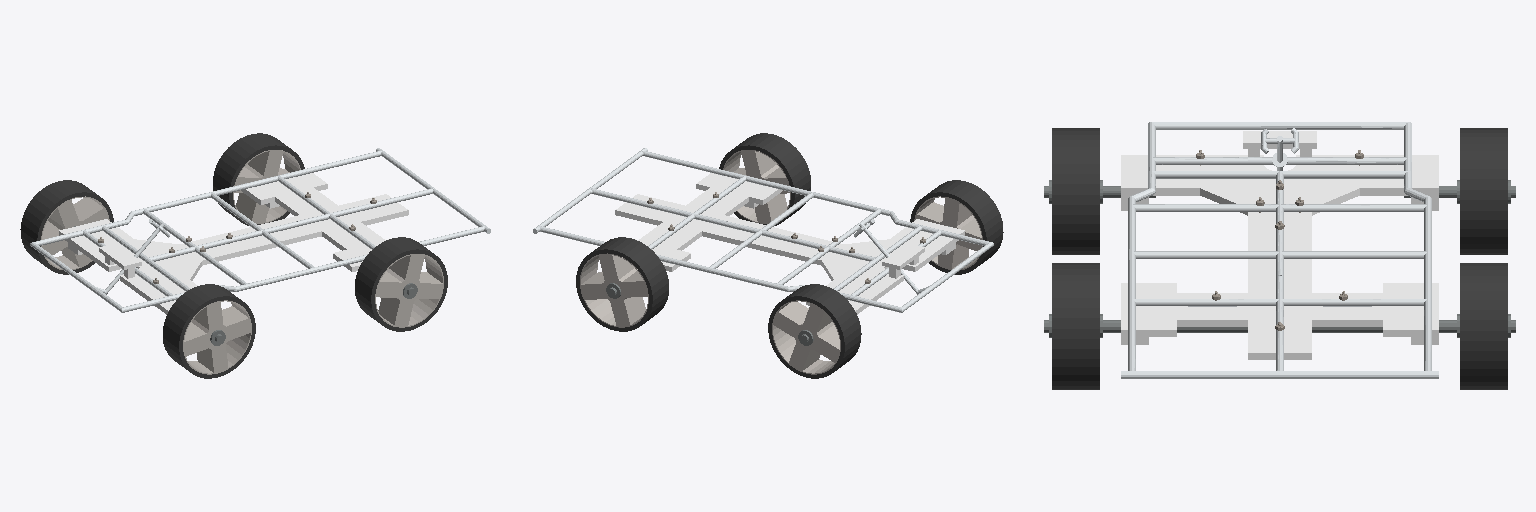
--- Facts derived from the render (not from the file) ---
Views: 3 orthographic renders of the robot side by side, from view 1: azimuth 30°, elevation 25°; view 2: azimuth 150°, elevation 25°; view 3: azimuth 270°, elevation 25°.
Robot: toycar3 — 47 links, 46 joints (4 revolute, 2 continuous, 40 fixed); root link dummy_link; default pose: all joints at 0.
Visible links, largest first — view 1: base_link, link_frame, link_r_l_rim, link_f_l_rim, link_r_l_tyre, link_f_l_tyre, link_f_r_tyre, link_f_r_rim, link_r_r_rim, link_r_r_tyre; view 2: base_link, link_frame, link_r_r_rim, link_f_r_rim, link_f_r_tyre, link_r_r_tyre, link_f_l_tyre, link_f_l_rim, link_r_l_rim, link_r_l_tyre; view 3: base_link, link_frame, link_r_l_tyre, link_r_r_tyre, link_f_l_tyre, link_f_r_tyre, link_rear_axle, link_steering.
Boxes of the visible links, box(x1,y1,x2,y2) form: base_link: box(59, 173, 408, 314); link_frame: box(30, 148, 490, 312); link_r_l_rim: box(375, 254, 443, 327); link_f_l_rim: box(183, 300, 251, 374); link_r_l_tyre: box(355, 237, 447, 331); link_f_l_tyre: box(163, 284, 255, 378); link_f_r_tyre: box(20, 180, 113, 274); link_f_r_rim: box(41, 196, 109, 269); link_r_r_rim: box(233, 150, 300, 223); link_r_r_tyre: box(213, 133, 304, 225); base_link: box(615, 173, 964, 314); link_frame: box(533, 148, 993, 312); link_r_r_rim: box(580, 253, 648, 327); link_f_r_rim: box(772, 300, 840, 374); link_f_r_tyre: box(768, 284, 861, 378); link_r_r_tyre: box(576, 237, 668, 331); link_f_l_tyre: box(910, 180, 1003, 274); link_f_l_rim: box(914, 196, 982, 269); link_r_l_rim: box(723, 150, 790, 223); link_r_l_tyre: box(719, 133, 810, 225); base_link: box(1121, 131, 1438, 359); link_frame: box(1121, 122, 1438, 378); link_r_l_tyre: box(1052, 263, 1099, 389); link_r_r_tyre: box(1460, 263, 1507, 389); link_f_l_tyre: box(1052, 128, 1099, 254); link_f_r_tyre: box(1460, 128, 1507, 254); link_rear_axle: box(1044, 314, 1515, 337); link_steering: box(1261, 128, 1298, 170).
Bounding box of the posed robot: 0.9527 × 0.7518 × 0.2349 m (x, y, z).
Meshes: 46 distinct files referenced, 44 mesh visuals loaded (44 binary STL); not drawn: 2 (reference not matched to a file when rendering).

URDF robot description (toycar3):
<?xml version="1.0" encoding="utf-8"?>
<!-- This URDF was automatically created by SolidWorks to URDF Exporter! Originally created by Stephen Brawner ([email redacted]) 
     Commit Version: 1.5.1-0-g916b5db  Build Version: 1.5.7152.31018
     For more information, please see http://wiki.ros.org/sw_urdf_exporter -->
<robot
  name="toycar3">
  <link
  	name="dummy_link">
  </link>
  <joint
  	name="dummy_joint"
  	type="fixed">
  	<parent
  		link="dummy_link"/>
  	<child
  		link="base_link"/>
  </joint>
  <link
    name="base_link">
    <inertial>
      <origin
        xyz="-0.0194866230589182 -4.52821466575289E-08 -0.0138913433602023"
        rpy="0 0 0" />
      <mass
        value="0.903090596787696" />
      <inertia
        ixx="0.0180645207120678"
        ixy="-9.36645843785957E-09"
        ixz="0.000714315186526493"
        iyy="0.0526376386693268"
        iyz="-3.23548170887733E-12"
        izz="0.070501882923323" />
    </inertial>
    <visual>
      <origin
        xyz="0 0 0"
        rpy="0 0 0" />
      <geometry>
        <mesh
          filename="package://toycar3/meshes/base_link.STL" />
      </geometry>
      <material
        name="">
        <color
          rgba="1 1 1 1" />
      </material>
    </visual>
    <collision>
      <origin
        xyz="0 0 0"
        rpy="0 0 0" />
      <geometry>
        <mesh
          filename="package://toycar3/meshes/base_link.STL" />
      </geometry>
    </collision>
  </link>

  <link
    name="link_rear_axle">
    <inertial>
      <origin
        xyz="2.64544163842131E-16 -5.55111512312578E-17 2.77555756156289E-17"
        rpy="0 0 0" />
      <mass
        value="2.03106793667197" />
      <inertia
        ixx="0.000128290910385331"
        ixy="1.70327418145342E-17"
        ixz="9.34665928195229E-18"
        iyy="0.103528744925387"
        iyz="-2.24666018215923E-34"
        izz="0.103528744925387" />
    </inertial>
    <visual>
      <origin
        xyz="0 0 0"
        rpy="0 0 0" />
      <geometry>
        <mesh
          filename="package://toycar3/meshes/link_rear_axle.STL" />
      </geometry>
      <material
        name="">
        <color
          rgba="0.529411764705882 0.549019607843137 0.549019607843137 1" />
      </material>
    </visual>
    <collision>
      <origin
        xyz="0 0 0"
        rpy="0 0 0" />
      <geometry>
        <mesh
          filename="package://toycar3/meshes/link_rear_axle.STL" />
      </geometry>
    </collision>
  </link>
  <joint
    name="joint_rear_axle"
    type="revolute">
    <origin
      xyz="0.19685 0 -0.04191"
      rpy="-0.667881894752791 0 1.5707963267949" />
    <parent
      link="base_link" />
    <child
      link="link_rear_axle" />
    <axis
      xyz="1 0 0" />
    <limit
      lower="-1000000"
      upper="20"
      effort="10"
      velocity="100" />
  </joint>
  <link
    name="link_r_l_rim">
    <inertial>
      <origin
        xyz="0.0381 0 0"
        rpy="0 0 0" />
      <mass
        value="7.74226211748073" />
      <inertia
        ixx="0.0281102715780439"
        ixy="-1.4269500038313E-19"
        ixz="-3.61755094790608E-18"
        iyy="0.0178013841598073"
        iyz="4.33680868994202E-18"
        izz="0.0178013841598073" />
    </inertial>
    <visual>
      <origin
        xyz="0 0 0"
        rpy="0 0 0" />
      <geometry>
        <mesh
          filename="package://toycar3/meshes/link_r_l_rim.STL" />
      </geometry>
      <material
        name="">
        <color
          rgba="0.776470588235294 0.756862745098039 0.737254901960784 1" />
      </material>
    </visual>
    <collision>
      <origin
        xyz="0 0 0"
        rpy="0 0 0" />
      <geometry>
        <mesh
          filename="package://toycar3/meshes/link_r_l_rim.STL" />
      </geometry>
    </collision>
  </link>
  <joint
    name="joint_r_l_rim"
    type="fixed">
    <origin
      xyz="-0.36322 0 0"
      rpy="-0.645429670899287 0 0" />
    <parent
      link="link_rear_axle" />
    <child
      link="link_r_l_rim" />
    <axis
      xyz="0 0 0" />
  </joint>
  <link
    name="link_r_l_tyre">
    <inertial>
      <origin
        xyz="0.0381 0 -2.77555756156289E-17"
        rpy="0 0 0" />
      <mass
        value="0.544257263030236" />
      <inertia
        ixx="0.00508440606902419"
        ixy="-1.23815831046327E-19"
        ixz="4.02909765679665E-19"
        iyy="0.00280555279637453"
        iyz="-1.24683249835833E-18"
        izz="0.00280555279637453" />
    </inertial>
    <visual>
      <origin
        xyz="0 0 0"
        rpy="0 0 0" />
      <geometry>
        <mesh
          filename="package://toycar3/meshes/link_r_l_tyre.STL" />
      </geometry>
      <material
        name="">
        <color
          rgba="0.298039215686275 0.298039215686275 0.298039215686275 1" />
      </material>
    </visual>
    <collision>
      <origin
        xyz="0 0 0"
        rpy="0 0 0" />
      <geometry>
        <mesh
          filename="package://toycar3/meshes/link_r_l_tyre.STL" />
      </geometry>
    </collision>
  </link>
  <joint
    name="joint_r_l_tyre"
    type="fixed">
    <origin
      xyz="0 0 0"
      rpy="0.00846878916446956 0 0" />
    <parent
      link="link_r_l_rim" />
    <child
      link="link_r_l_tyre" />
    <axis
      xyz="0 0 0" />
  </joint>
  <link
    name="link_r_r_rim">
    <inertial>
      <origin
        xyz="0.0381 -6.93889390390723E-18 0"
        rpy="0 0 0" />
      <mass
        value="7.74226211748073" />
      <inertia
        ixx="0.0281102715780439"
        ixy="-2.77957676458445E-18"
        ixz="-9.23432583231778E-20"
        iyy="0.0178013841598073"
        iyz="8.67361737988404E-19"
        izz="0.0178013841598073" />
    </inertial>
    <visual>
      <origin
        xyz="0 0 0"
        rpy="0 0 0" />
      <geometry>
        <mesh
          filename="package://toycar3/meshes/link_r_r_rim.STL" />
      </geometry>
      <material
        name="">
        <color
          rgba="0.776470588235294 0.756862745098039 0.737254901960784 1" />
      </material>
    </visual>
    <collision>
      <origin
        xyz="0 0 0"
        rpy="0 0 0" />
      <geometry>
        <mesh
          filename="package://toycar3/meshes/link_r_r_rim.STL" />
      </geometry>
    </collision>
  </link>
  <joint
    name="joint_r_r_rim"
    type="fixed">
    <origin
      xyz="0.28702 0 0"
      rpy="-0.621491575350701 0 0" />
    <parent
      link="link_rear_axle" />
    <child
      link="link_r_r_rim" />
    <axis
      xyz="0 0 0" />
  </joint>
  <link
    name="link_r_r_tyre">
    <inertial>
      <origin
        xyz="0.0381 0 -2.77555756156289E-17"
        rpy="0 0 0" />
      <mass
        value="0.544257263030236" />
      <inertia
        ixx="0.00508440606902418"
        ixy="-4.437551776778E-19"
        ixz="1.70523028282642E-19"
        iyy="0.00280555279637453"
        iyz="5.42101086242752E-19"
        izz="0.00280555279637453" />
    </inertial>
    <visual>
      <origin
        xyz="0 0 0"
        rpy="0 0 0" />
      <geometry>
        <mesh
          filename="package://toycar3/meshes/link_r_r_tyre.STL" />
      </geometry>
      <material
        name="">
        <color
          rgba="0.298039215686275 0.298039215686275 0.298039215686275 1" />
      </material>
    </visual>
    <collision>
      <origin
        xyz="0 0 0"
        rpy="0 0 0" />
      <geometry>
        <mesh
          filename="package://toycar3/meshes/link_r_r_tyre.STL" />
      </geometry>
    </collision>
  </link>
  <joint
    name="joint_r_r_tyre"
    type="fixed">
    <origin
      xyz="0 0 0"
      rpy="0.347274971296084 0 0" />
    <parent
      link="link_r_r_rim" />
    <child
      link="link_r_r_tyre" />
    <axis
      xyz="0 0 0" />
  </joint>
  <link
    name="link_f_l_male">
    <inertial>
      <origin
        xyz="0 0.00139495758888553 -2.77555756156289E-17"
        rpy="0 0 0" />
      <mass
        value="0.0198736914795158" />
      <inertia
        ixx="1.38179284185265E-06"
        ixy="-2.59401671132815E-22"
        ixz="3.63870617807167E-22"
        iyy="4.6384541819013E-06"
        iyz="-3.41550258992647E-23"
        izz="3.37441763239287E-06" />
    </inertial>
    <visual>
      <origin
        xyz="0 0 0"
        rpy="0 0 0" />
      <geometry>
        <mesh
          filename="package://toycar3/meshes/link_f_l_male.STL" />
      </geometry>
      <material
        name="">
        <color
          rgba="0.650980392156863 0.619607843137255 0.588235294117647 1" />
      </material>
    </visual>
    <collision>
      <origin
        xyz="0 0 0"
        rpy="0 0 0" />
      <geometry>
        <mesh
          filename="package://toycar3/meshes/link_f_l_male.STL" />
      </geometry>
    </collision>
  </link>
  <joint
    name="joint_f_l_male"
    type="fixed">
    <origin
      xyz="-0.31115 -0.231775 -0.01905"
      rpy="-1.5707963267949 0 0" />
    <parent
      link="base_link" />
    <child
      link="link_f_l_male" />
    <axis
      xyz="0 0 0" />
    <limit
      lower="0"
      upper="0.69"
      effort="0"
      velocity="0" />
  </joint>
  <link
    name="link_f_l_screw1">
    <inertial>
      <origin
        xyz="8.05871137210534E-07 -0.00131420373114879 4.74413567264076E-07"
        rpy="0 0 0" />
      <mass
        value="0.000125943991766216" />
      <inertia
        ixx="7.65573322438364E-10"
        ixy="6.41796368786257E-14"
        ixz="1.01152736126987E-14"
        iyy="8.25148970327899E-11"
        iyz="-3.68494679781155E-13"
        izz="7.65536297004475E-10" />
    </inertial>
    <visual>
      <origin
        xyz="0 0 0"
        rpy="0 0 0" />
      <geometry>
        <mesh
          filename="package://toycar3/meshes/link_f_l_screw1.STL" />
      </geometry>
      <material
        name="">
        <color
          rgba="0.650980392156863 0.619607843137255 0.588235294117647 1" />
      </material>
    </visual>
    <collision>
      <origin
        xyz="0 0 0"
        rpy="0 0 0" />
      <geometry>
        <mesh
          filename="package://toycar3/meshes/link_f_l_screw1.STL" />
      </geometry>
    </collision>
  </link>
  <joint
    name="joint_f_l_screw1"
    type="fixed">
    <origin
      xyz="-0.02159 0 -0.012065"
      rpy="3.14159265358979 0 3.14159265358979" />
    <parent
      link="link_f_l_male" />
    <child
      link="link_f_l_screw1" />
    <axis
      xyz="0 0 0" />
    <limit
      lower="0"
      upper="0"
      effort="0"
      velocity="0" />
  </joint>
  <link
    name="link_f_l_screw2">
    <inertial>
      <origin
        xyz="8.05871138653824E-07 -0.00131420373115186 4.74413572287835E-07"
        rpy="0 0 0" />
      <mass
        value="0.000125943991766291" />
      <inertia
        ixx="7.6557332244084E-10"
        ixy="6.41796377172423E-14"
        ixz="1.01152735806357E-14"
        iyy="8.25148970328198E-11"
        iyz="-3.68494677909906E-13"
        izz="7.65536297005135E-10" />
    </inertial>
    <visual>
      <origin
        xyz="0 0 0"
        rpy="0 0 0" />
      <geometry>
        <mesh
          filename="package://toycar3/meshes/link_f_l_screw2.STL" />
      </geometry>
      <material
        name="">
        <color
          rgba="0.650980392156863 0.619607843137255 0.588235294117647 1" />
      </material>
    </visual>
    <collision>
      <origin
        xyz="0 0 0"
        rpy="0 0 0" />
      <geometry>
        <mesh
          filename="package://toycar3/meshes/link_f_l_screw2.STL" />
      </geometry>
    </collision>
  </link>
  <joint
    name="joint_f_l_screw2"
    type="fixed">
    <origin
      xyz="-0.02159 0 0.012065"
      rpy="3.14159265358979 0 3.14159265358979" />
    <parent
      link="link_f_l_male" />
    <child
      link="link_f_l_screw2" />
    <axis
      xyz="0 0 0" />
    <limit
      lower="0"
      upper="0"
      effort="0"
      velocity="0" />
  </joint>
  <link
    name="link_f_l_screw3">
    <inertial>
      <origin
        xyz="0.0246210994003396 -0.0217182225147169 0.0108711258438841"
        rpy="0 0 0" />
      <mass
        value="0.000125943991766536" />
      <inertia
        ixx="8.28009787691083E-11"
        ixy="-1.3976245373486E-11"
        ixz="3.64129010863095E-13"
        iyy="7.65286030019214E-10"
        iyz="1.94810591345519E-14"
        izz="7.655375076955E-10" />
    </inertial>
    <visual>
      <origin
        xyz="0 0 0"
        rpy="0 0 0" />
      <geometry>
        <mesh
          filename="package://toycar3/meshes/link_f_l_screw3.STL" />
      </geometry>
      <material
        name="">
        <color
          rgba="0.650980392156863 0.619607843137255 0.588235294117647 1" />
      </material>
    </visual>
    <collision>
      <origin
        xyz="0 0 0"
        rpy="0 0 0" />
      <geometry>
        <mesh
          filename="package://toycar3/meshes/link_f_l_screw3.STL" />
      </geometry>
    </collision>
  </link>
  <joint
    name="joint_f_l_screw3"
    type="fixed">
    <origin
      xyz="0 0.02286 0"
      rpy="3.08708565552536 0.00110848337156834 -1.55048273639759" />
    <parent
      link="link_f_l_male" />
    <child
      link="link_f_l_screw3" />
    <axis
      xyz="0 0 0" />
    <limit
      lower="0"
      upper="0"
      effort="0"
      velocity="13.58" />
  </joint>
  <link
    name="link_f_l_screw4">
    <inertial>
      <origin
        xyz="8.05871144482495E-07 -0.00131420373115914 4.74413583168021E-07"
        rpy="0 0 0" />
      <mass
        value="0.000125943991766587" />
      <inertia
        ixx="7.65573322446374E-10"
        ixy="6.41796399667039E-14"
        ixz="1.0115273846494E-14"
        iyy="8.25148970329176E-11"
        iyz="-3.68494673538106E-13"
        izz="7.65536297005775E-10" />
    </inertial>
    <visual>
      <origin
        xyz="0 0 0"
        rpy="0 0 0" />
      <geometry>
        <mesh
          filename="package://toycar3/meshes/link_f_l_screw4.STL" />
      </geometry>
      <material
        name="">
        <color
          rgba="0.650980392156863 0.619607843137255 0.588235294117647 1" />
      </material>
    </visual>
    <collision>
      <origin
        xyz="0 0 0"
        rpy="0 0 0" />
      <geometry>
        <mesh
          filename="package://toycar3/meshes/link_f_l_screw4.STL" />
      </geometry>
    </collision>
  </link>
  <joint
    name="joint_f_l_screw4"
    type="fixed">
    <origin
      xyz="0.02159 0 0.012065"
      rpy="3.14159265358979 0 3.14159265358979" />
    <parent
      link="link_f_l_male" />
    <child
      link="link_f_l_screw4" />
    <axis
      xyz="0 0 0" />
  </joint>
  <link
    name="link_f_l_female">
    <inertial>
      <origin
        xyz="-5.55111512312578E-17 0.00256379553417314 -2.77555756156289E-17"
        rpy="0 0 0" />
      <mass
        value="0.0608610664145253" />
      <inertia
        ixx="5.44262463107105E-06"
        ixy="-1.07231695663154E-21"
        ixz="-4.49856259556589E-07"
        iyy="1.88403983131329E-05"
        iyz="-1.64324963805775E-22"
        izz="1.36613772887221E-05" />
    </inertial>
    <visual>
      <origin
        xyz="0 0 0"
        rpy="0 0 0" />
      <geometry>
        <mesh
          filename="package://toycar3/meshes/link_f_l_female.STL" />
      </geometry>
      <material
        name="">
        <color
          rgba="0.650980392156863 0.619607843137255 0.588235294117647 1" />
      </material>
    </visual>
    <collision>
      <origin
        xyz="0 0 0"
        rpy="0 0 0" />
      <geometry>
        <mesh
          filename="package://toycar3/meshes/link_f_l_female.STL" />
      </geometry>
    </collision>
  </link>
  <joint
    name="joint_f_l_female"
    type="revolute">
    <origin
      xyz="0 0.00381 0"
      rpy="0 0.054518 0" />
    <parent
      link="link_f_l_male" />
    <child
      link="link_f_l_female" />
    <axis
      xyz="0 1 0" />
    <limit
      lower="-0.35"
      upper="0.35"
      effort="10"
      velocity="0" />
  </joint>
  <link
    name="link_f_l_box">
    <inertial>
      <origin
        xyz="-0.000118058799892407 0.0218954046217484 -6.36415414712044E-06"
        rpy="0 0 0" />
      <mass
        value="0.0316542736439618" />
      <inertia
        ixx="8.5762956705751E-06"
        ixy="3.66029913286007E-08"
        ixz="-6.97896757539453E-07"
        iyy="2.37464901569807E-05"
        iyz="1.99393426415151E-09"
        izz="2.13257150133968E-05" />
    </inertial>
    <visual>
      <origin
        xyz="0 0 0"
        rpy="0 0 0" />
      <geometry>
        <mesh
          filename="package://toycar3/meshes/link_f_l_box.STL" />
      </geometry>
      <material
        name="">
        <color
          rgba="1 1 1 1" />
      </material>
    </visual>
    <collision>
      <origin
        xyz="0 0 0"
        rpy="0 0 0" />
      <geometry>
        <mesh
          filename="package://toycar3/meshes/link_f_l_box.STL" />
      </geometry>
    </collision>
  </link>
  <joint
    name="joint_f_l_box"
    type="fixed">
    <origin
      xyz="0 -0.00380999999999999 0"
      rpy="0 0 0" />
    <parent
      link="link_f_l_female" />
    <child
      link="link_f_l_box" />
    <axis
      xyz="0 0 0" />
  </joint>
  <link
    name="link_f_l_axle">
    <inertial>
      <origin
        xyz="2.08166817117217E-17 -2.22044604925031E-16 0.0600335245901639"
        rpy="0 0 0" />
      <mass
        value="0.514392650628072" />
      <inertia
        ixx="0.00139291099285096"
        ixy="0"
        ixz="-1.39332476484977E-20"
        iyy="0.00139291099285096"
        iyz="8.02405594864398E-20"
        izz="3.82801485900708E-05" />
    </inertial>
    <visual>
      <origin
        xyz="0 0 0"
        rpy="0 0 0" />
      <geometry>
        <mesh
          filename="package://toycar3/meshes/link_f_l_axle.STL" />
      </geometry>
      <material
        name="">
        <color
          rgba="0.529411764705882 0.549019607843137 0.549019607843137 1" />
      </material>
    </visual>
    <collision>
      <origin
        xyz="0 0 0"
        rpy="0 0 0" />
      <geometry>
        <mesh
          filename="package://toycar3/meshes/link_f_l_axle.STL" />
      </geometry>
    </collision>
  </link>
  <joint
    name="joint_f_l_axle"
    type="continuous">
    <origin
      xyz="0 0.02286 0"
      rpy="-3.08708565552535 -0.00110848337156762 -1.55048273639759" />
    <parent
      link="link_f_l_box" />
    <child
      link="link_f_l_axle" />
    <axis
      xyz="0 0 1" />
  </joint>
  <link
    name="link_f_l_rim">
    <inertial>
      <origin
        xyz="0.0379613124681336 0.0013164431408594 0.00491317804984565"
        rpy="0 0 0" />
      <mass
        value="7.74226211748073" />
      <inertia
        ixx="0.0280796614317714"
        ixy="0.000145170077607715"
        ixz="0.000541798135186436"
        iyy="0.0178034345375968"
        iyz="7.65234048971249E-06"
        izz="0.0178299439282903" />
    </inertial>
    <visual>
      <origin
        xyz="0 0 0"
        rpy="0 0 0" />
      <geometry>
        <mesh
          filename="package://toycar3/meshes/link_f_l_rim.STL" />
      </geometry>
      <material
        name="">
        <color
          rgba="0.776470588235294 0.756862745098039 0.737254901960784 1" />
      </material>
    </visual>
    <collision>
      <origin
        xyz="0 0 0"
        rpy="0 0 0" />
      <geometry>
        <mesh
          filename="package://toycar3/meshes/link_f_l_rim.STL" />
      </geometry>
    </collision>
  </link>
  <joint
    name="joint_f_l_rim"
    type="fixed">
    <origin
      xyz="-6.12381513213217E-05 0.0030097464087871 0.0551629196239977"
      rpy="0.261791991203231 -1.51627806970356 1.59114013472754" />
    <parent
      link="link_f_l_axle" />
    <child
      link="link_f_l_rim" />
    <axis
      xyz="0 0 0" />
  </joint>
  <link
    name="link_f_l_tyre">
    <inertial>
      <origin
        xyz="0.0379613124681336 0.000204962217721424 0.00508235492482662"
        rpy="0 0 0" />
      <mass
        value="0.544257263030237" />
      <inertia
        ixx="0.00507763947732721"
        ixy="4.9963560691611E-06"
        ixz="0.000123892369806174"
        iyy="0.0028055637834439"
        iyz="2.72441363700639E-07"
        izz="0.00281230840100216" />
    </inertial>
    <visual>
      <origin
        xyz="0 0 0"
        rpy="0 0 0" />
      <geometry>
        <mesh
          filename="package://toycar3/meshes/link_f_l_tyre.STL" />
      </geometry>
      <material
        name="">
        <color
          rgba="0.298039215686275 0.298039215686275 0.298039215686275 1" />
      </material>
    </visual>
    <collision>
      <origin
        xyz="0 0 0"
        rpy="0 0 0" />
      <geometry>
        <mesh
          filename="package://toycar3/meshes/link_f_l_tyre.STL" />
      </geometry>
    </collision>
  </link>
  <joint
    name="joint_f_l_tyre"
    type="fixed">
    <origin
      xyz="0 0 0"
      rpy="-0.221485634270223 0 0" />
    <parent
      link="link_f_l_rim" />
    <child
      link="link_f_l_tyre" />
    <axis
      xyz="0 0 0" />
  </joint>
  <link
    name="link_f_r_male">
    <inertial>
      <origin
        xyz="5.55111512312578E-17 0.00139495758888553 0"
        rpy="0 0 0" />
      <mass
        value="0.0198736914795158" />
      <inertia
        ixx="1.38179284185265E-06"
        ixy="2.45844317793415E-24"
        ixz="3.26550554442329E-22"
        iyy="4.6384541819013E-06"
        iyz="-5.41831797819583E-23"
        izz="3.37441763239287E-06" />
    </inertial>
    <visual>
      <origin
        xyz="0 0 0"
        rpy="0 0 0" />
      <geometry>
        <mesh
          filename="package://toycar3/meshes/link_f_r_male.STL" />
      </geometry>
      <material
        name="">
        <color
          rgba="0.650980392156863 0.619607843137255 0.588235294117647 1" />
      </material>
    </visual>
    <collision>
      <origin
        xyz="0 0 0"
        rpy="0 0 0" />
      <geometry>
        <mesh
          filename="package://toycar3/meshes/link_f_r_male.STL" />
      </geometry>
    </collision>
  </link>
  <joint
    name="joint_f_r_male"
    type="fixed">
    <origin
      xyz="-0.31115 0.231775 -0.01905"
      rpy="-1.5707963267949 0 3.14159265358979" />
    <parent
      link="base_link" />
    <child
      link="link_f_r_male" />
    <axis
      xyz="0 0 0" />
    <limit
      lower="0"
      upper="0.69"
      effort="0"
      velocity="0" />
  </joint>
  <link
    name="link_f_r_female">
    <inertial>
      <origin
        xyz="-5.55111512312578E-17 0.00637379553417314 5.55111512312578E-17"
        rpy="0 0 0" />
      <mass
        value="0.0608610664145253" />
      <inertia
        ixx="5.41807492449466E-06"
        ixy="-7.57375835622894E-21"
        ixz="-1.07746278902046E-18"
        iyy="1.88403983131329E-05"
        iyz="6.60324189025663E-22"
        izz="1.36859269952985E-05" />
    </inertial>
    <visual>
      <origin
        xyz="0 0 0"
        rpy="0 0 0" />
      <geometry>
        <mesh
          filename="package://toycar3/meshes/link_f_r_female.STL" />
      </geometry>
      <material
        name="">
        <color
          rgba="0.650980392156863 0.619607843137255 0.588235294117647 1" />
      </material>
    </visual>
    <collision>
      <origin
        xyz="0 0 0"
        rpy="0 0 0" />
      <geometry>
        <mesh
          filename="package://toycar3/meshes/link_f_r_female.STL" />
      </geometry>
    </collision>
  </link>
  <joint
    name="joint_f_r_female"
    type="revolute">
    <origin
      xyz="0 0 0"
      rpy="3.1416 0 3.1416" />
    <parent
      link="link_f_r_male" />
    <child
      link="link_f_r_female" />
    <axis
      xyz="0 1 0" />
    <limit
      lower="-0.35"
      upper="0.35"
      effort="10"
      velocity="0" /> 
  </joint>
  <link
    name="link_f_r_box">
    <inertial>
      <origin
        xyz="-0.000118070441057605 0.0218954029057654 -6.42087200444785E-06"
        rpy="0 0 0" />
      <mass
        value="0.0316542496674256" />
      <inertia
        ixx="8.57697943582395E-06"
        ixy="3.66031693926522E-08"
        ixz="-7.04116692628444E-07"
        iyy="2.37464804014165E-05"
        iyz="2.01172517497529E-09"
        izz="2.13250212140382E-05" />
    </inertial>
    <visual>
      <origin
        xyz="0 0 0"
        rpy="0 0 0" />
      <geometry>
        <mesh
          filename="package://toycar3/meshes/link_f_r_box.STL" />
      </geometry>
      <material
        name="">
        <color
          rgba="1 1 1 1" />
      </material>
    </visual>
    <collision>
      <origin
        xyz="0 0 0"
        rpy="0 0 0" />
      <geometry>
        <mesh
          filename="package://toycar3/meshes/link_f_r_box.STL" />
      </geometry>
    </collision>
  </link>
  <joint
    name="joint_f_r_box"
    type="fixed">
    <origin
      xyz="0 0 0"
      rpy="0 0.0550060979108971 0" />
    <parent
      link="link_f_r_female" />
    <child
      link="link_f_r_box" />
    <axis
      xyz="0 0 0" />
  </joint>
  <link
    name="link_f_r_axle">
    <inertial>
      <origin
        xyz="9.43689570931383E-16 -4.44089209850063E-16 0.0600335245901641"
        rpy="0 0 0" />
      <mass
        value="0.514392650628071" />
      <inertia
        ixx="0.00139291099285096"
        ixy="3.28385662961874E-34"
        ixz="-3.68555797030506E-18"
        iyy="0.00139291099285096"
        iyz="-3.81002449938206E-18"
        izz="3.82801485900707E-05" />
    </inertial>
    <visual>
      <origin
        xyz="0 0 0"
        rpy="0 0 0" />
      <geometry>
        <mesh
          filename="package://toycar3/meshes/link_f_r_axle.STL" />
      </geometry>
      <material
        name="">
        <color
          rgba="0.529411764705882 0.549019607843137 0.549019607843137 1" />
      </material>
    </visual>
    <collision>
      <origin
        xyz="0 0 0"
        rpy="0 0 0" />
      <geometry>
        <mesh
          filename="package://toycar3/meshes/link_f_r_axle.STL" />
      </geometry>
    </collision>
  </link>
  <joint
    name="joint_f_r_axle"
    type="continuous">
    <origin
      xyz="0 0.0228600000000001 0"
      rpy="0.0385191950946923 0.0392772905880764 -2.36556290950817" />
    <parent
      link="link_f_r_box" />
    <child
      link="link_f_r_axle" />
    <axis
      xyz="0 0 1" />
  </joint>
  <link
    name="link_f_r_rim">
    <inertial>
      <origin
        xyz="0.0382411800183526 0.00463757820344296 -0.00219768838450926"
        rpy="0 0 0" />
      <mass
        value="7.74226211748073" />
      <inertia
        ixx="0.028079111723839"
        ixy="-0.000511392830693595"
        ixz="0.000242342454322855"
        iyy="0.0178268297289427"
        iyz="-1.2058326409341E-05"
        izz="0.0178070984448768" />
    </inertial>
    <visual>
      <origin
        xyz="0 0 0"
        rpy="0 0 0" />
      <geometry>
        <mesh
          filename="package://toycar3/meshes/link_f_r_rim.STL" />
      </geometry>
      <material
        name="">
        <color
          rgba="0.776470588235294 0.756862745098039 0.737254901960784 1" />
      </material>
    </visual>
    <collision>
      <origin
        xyz="0 0 0"
        rpy="0 0 0" />
      <geometry>
        <mesh
          filename="package://toycar3/meshes/link_f_r_rim.STL" />
      </geometry>
    </collision>
  </link>
  <joint
    name="joint_f_r_rim"
    type="fixed">
    <origin
      xyz="-0.00516147611615508 0.00505799962266965 0.131246195484364"
      rpy="2.01333622728987 1.51579022888373 -0.775273088484832" />
    <parent
      link="link_f_r_axle" />
    <child
      link="link_f_r_rim" />
    <axis
      xyz="0 0 0" />
  </joint>
  <link
    name="link_f_r_tyre">
    <inertial>
      <origin
        xyz="0.0382411800183527 0.00507031070036651 -0.000793041758173"
        rpy="0 0 0" />
      <mass
        value="0.544257263030237" />
      <inertia
        ixx="0.00507751796045834"
        ixy="-0.000123595462981878"
        ixz="1.93314313574997E-05"
        iyy="0.00281227641991912"
        iyz="-1.05163461416709E-06"
        izz="0.0028057172813958" />
    </inertial>
    <visual>
      <origin
        xyz="0 0 0"
        rpy="0 0 0" />
      <geometry>
        <mesh
          filename="package://toycar3/meshes/link_f_r_tyre.STL" />
      </geometry>
      <material
        name="">
        <color
          rgba="0.298039215686275 0.298039215686275 0.298039215686275 1" />
      </material>
    </visual>
    <collision>
      <origin
        xyz="0 0 0"
        rpy="0 0 0" />
      <geometry>
        <mesh
          filename="package://toycar3/meshes/link_f_r_tyre.STL" />
      </geometry>
    </collision>
  </link>
  <joint
    name="joint_f_r_tyre"
    type="fixed">
    <origin
      xyz="0 0 0"
      rpy="-0.287388041788395 0 0" />
    <parent
      link="link_f_r_rim" />
    <child
      link="link_f_r_tyre" />
    <axis
      xyz="0 0 0" />
  </joint>
  <link
    name="link_f_r_screw1">
    <inertial>
      <origin
        xyz="8.05871138098713E-07 -0.00131420373115022 4.74413568790633E-07"
        rpy="0 0 0" />
      <mass
        value="0.000125943991766257" />
      <inertia
        ixx="7.65573322439304E-10"
        ixy="6.41796372995749E-14"
        ixz="1.01152735852706E-14"
        iyy="8.25148970328047E-11"
        iyz="-3.68494679173842E-13"
        izz="7.65536297004969E-10" />
    </inertial>
    <visual>
      <origin
        xyz="0 0 0"
        rpy="0 0 0" />
      <geometry>
        <mesh
          filename="package://toycar3/meshes/link_f_r_screw1.STL" />
      </geometry>
      <material
        name="">
        <color
          rgba="0.650980392156863 0.619607843137255 0.588235294117647 1" />
      </material>
    </visual>
    <collision>
      <origin
        xyz="0 0 0"
        rpy="0 0 0" />
      <geometry>
        <mesh
          filename="package://toycar3/meshes/link_f_r_screw1.STL" />
      </geometry>
    </collision>
  </link>
  <joint
    name="joint_f_r_screw1"
    type="fixed">
    <origin
      xyz="-0.0215899999999999 0 -0.0120650000000001"
      rpy="0 0 0" />
    <parent
      link="link_f_r_male" />
    <child
      link="link_f_r_screw1" />
    <axis
      xyz="0 0 0" />
    <limit
      lower="0"
      upper="0"
      effort="0"
      velocity="0" />
  </joint>
  <link
    name="link_f_r_screw2">
    <inertial>
      <origin
        xyz="0.0010496904616594 0.032817882474934 -0.010860287371414"
        rpy="0 0 0" />
      <mass
        value="0.000125943991766377" />
      <inertia
        ixx="4.30874706675306E-10"
        ixy="-3.41460286606324E-10"
        ixz="-2.63686461607675E-13"
        iyy="4.17212290326871E-10"
        iyz="-2.51812130230202E-13"
        izz="7.65537519479196E-10" />
    </inertial>
    <visual>
      <origin
        xyz="0 0 0"
        rpy="0 0 0" />
      <geometry>
        <mesh
          filename="package://toycar3/meshes/link_f_r_screw2.STL" />
      </geometry>
      <material
        name="">
        <color
          rgba="0.650980392156863 0.619607843137255 0.588235294117647 1" />
      </material>
    </visual>
    <collision>
      <origin
        xyz="0 0 0"
        rpy="0 0 0" />
      <geometry>
        <mesh
          filename="package://toycar3/meshes/link_f_r_screw2.STL" />
      </geometry>
    </collision>
  </link>
  <joint
    name="joint_f_r_screw2"
    type="fixed">
    <origin
      xyz="0 0.0228600000000001 0"
      rpy="3.103073458495 0.0392772905881773 -0.776029744081692" />
    <parent
      link="link_f_r_male" />
    <child
      link="link_f_r_screw2" />
    <axis
      xyz="0 0 0" />
    <limit
      lower="0"
      upper="0"
      effort="0"
      velocity="13.58" />
  </joint>
  <link
    name="link_f_r_screw3">
    <inertial>
      <origin
        xyz="8.05871134823555E-07 -0.00131420373114686 4.7441356504363E-07"
        rpy="0 0 0" />
      <mass
        value="0.000125943991766105" />
      <inertia
        ixx="7.6557332243721E-10"
        ixy="6.4179636092503E-14"
        ixz="1.01152735324587E-14"
        iyy="8.25148970327546E-11"
        iyz="-3.6849468080585E-13"
        izz="7.65536297004279E-10" />
    </inertial>
    <visual>
      <origin
        xyz="0 0 0"
        rpy="0 0 0" />
      <geometry>
        <mesh
          filename="package://toycar3/meshes/link_f_r_screw3.STL" />
      </geometry>
      <material
        name="">
        <color
          rgba="0.650980392156863 0.619607843137255 0.588235294117647 1" />
      </material>
    </visual>
    <collision>
      <origin
        xyz="0 0 0"
        rpy="0 0 0" />
      <geometry>
        <mesh
          filename="package://toycar3/meshes/link_f_r_screw3.STL" />
      </geometry>
    </collision>
  </link>
  <joint
    name="joint_f_r_screw3"
    type="fixed">
    <origin
      xyz="0.0215900000000001 0 -0.0120650000000001"
      rpy="0 0 0" />
    <parent
      link="link_f_r_male" />
    <child
      link="link_f_r_screw3" />
    <axis
      xyz="0 0 0" />
  </joint>
  <link
    name="link_f_r_screw4">
    <inertial>
      <origin
        xyz="8.05871137099512E-07 -0.00131420373114918 4.74413569845344E-07"
        rpy="0 0 0" />
      <mass
        value="0.00012594399176618" />
      <inertia
        ixx="7.65573322439218E-10"
        ixy="6.41796370759181E-14"
        ixz="1.01152735487238E-14"
        iyy="8.25148970327825E-11"
        iyz="-3.68494678940612E-13"
        izz="7.65536297004515E-10" />
    </inertial>
    <visual>
      <origin
        xyz="0 0 0"
        rpy="0 0 0" />
      <geometry>
        <mesh
          filename="package://toycar3/meshes/link_f_r_screw4.STL" />
      </geometry>
      <material
        name="">
        <color
          rgba="0.650980392156863 0.619607843137255 0.588235294117647 1" />
      </material>
    </visual>
    <collision>
      <origin
        xyz="0 0 0"
        rpy="0 0 0" />
      <geometry>
        <mesh
          filename="package://toycar3/meshes/link_f_r_screw4.STL" />
      </geometry>
    </collision>
  </link>
  <joint
    name="joint_f_r_screw4"
    type="fixed">
    <origin
      xyz="0.0215900000000001 0 0.012065"
      rpy="0 0 0" />
    <parent
      link="link_f_r_male" />
    <child
      link="link_f_r_screw4" />
    <axis
      xyz="0 0 0" />
  </joint>
  <link
    name="link_bolt1">
    <inertial>
      <origin
        xyz="-0.0323447106260147 -2.75026398488531E-07 1.21143500073084E-06"
        rpy="0 0 0" />
      <mass
        value="0.0117063658666888" />
      <inertia
        ixx="1.64769662837341E-07"
        ixy="1.05458450358288E-10"
        ixz="-6.25466583610431E-11"
        iyy="2.01693028215962E-06"
        iyz="8.73717377710326E-12"
        izz="2.01693100825196E-06" />
    </inertial>
    <visual>
      <origin
        xyz="0 0 0"
        rpy="0 0 0" />
      <geometry>
        <mesh
          filename="package://toycar3/meshes/link_bolt1.STL" />
      </geometry>
      <material
        name="">
        <color
          rgba="0.650980392156863 0.619607843137255 0.588235294117647 1" />
      </material>
    </visual>
    <collision>
      <origin
        xyz="0 0 0"
        rpy="0 0 0" />
      <geometry>
        <mesh
          filename="package://toycar3/meshes/link_bolt1.STL" />
      </geometry>
    </collision>
  </link>
  <joint
    name="joint_bolt1"
    type="fixed">
    <origin
      xyz="-0.33655 -0.127 0.018952"
      rpy="0.64826 -1.5708 0" />
    <parent
      link="base_link" />
    <child
      link="link_bolt1" />
    <axis
      xyz="0 0 0" />
  </joint>
  <link
    name="link_nut1">
    <inertial>
      <origin
        xyz="-0.00326662815978893 -3.62916825813464E-07 1.1128428872853E-09"
        rpy="0 0 0" />
      <mass
        value="0.00606203908565631" />
      <inertia
        ixx="1.46023443928158E-07"
        ixy="5.98314997670674E-13"
        ixz="1.67890812341134E-11"
        iyy="9.26689649343162E-08"
        iyz="-7.80437191344592E-13"
        izz="9.26682574598037E-08" />
    </inertial>
    <visual>
      <origin
        xyz="0 0 0"
        rpy="0 0 0" />
      <geometry>
        <mesh
          filename="package://toycar3/meshes/link_nut1.STL" />
      </geometry>
      <material
        name="">
        <color
          rgba="0.650980392156863 0.619607843137255 0.588235294117647 1" />
      </material>
    </visual>
    <collision>
      <origin
        xyz="0 0 0"
        rpy="0 0 0" />
      <geometry>
        <mesh
          filename="package://toycar3/meshes/link_nut1.STL" />
      </geometry>
    </collision>
  </link>
  <joint
    name="joint_nut1"
    type="fixed">
    <origin
      xyz="-0.00612066025066367 0 0"
      rpy="2.75637370565625 0 0" />
    <parent
      link="link_bolt1" />
    <child
      link="link_nut1" />
    <axis
      xyz="0 0 0" />
  </joint>
  <link
    name="link_bolt2">
    <inertial>
      <origin
        xyz="-0.0323447106260165 -2.75026398460776E-07 1.21143500064758E-06"
        rpy="0 0 0" />
      <mass
        value="0.011706365866688" />
      <inertia
        ixx="1.64769662837339E-07"
        ixy="1.05458450352678E-10"
        ixz="-6.25466583523467E-11"
        iyy="2.01693028215916E-06"
        iyz="8.73717377734148E-12"
        izz="2.0169310082515E-06" />
    </inertial>
    <visual>
      <origin
        xyz="0 0 0"
        rpy="0 0 0" />
      <geometry>
        <mesh
          filename="package://toycar3/meshes/link_bolt2.STL" />
      </geometry>
      <material
        name="">
        <color
          rgba="0.650980392156863 0.619607843137255 0.588235294117647 1" />
      </material>
    </visual>
    <collision>
      <origin
        xyz="0 0 0"
        rpy="0 0 0" />
      <geometry>
        <mesh
          filename="package://toycar3/meshes/link_bolt2.STL" />
      </geometry>
    </collision>
  </link>
  <joint
    name="joint_bolt2"
    type="fixed">
    <origin
      xyz="-0.33655 0.127 0.018952"
      rpy="2.9289 -1.5708 0" />
    <parent
      link="base_link" />
    <child
      link="link_bolt2" />
    <axis
      xyz="0 0 0" />
  </joint>
  <link
    name="link_nut2">
    <inertial>
      <origin
        xyz="0.00343734338820644 -2.47055199076307E-07 2.65845047808799E-07"
        rpy="0 0 0" />
      <mass
        value="0.0060620390856564" />
      <inertia
        ixx="1.46023443928159E-07"
        ixy="1.26718748121109E-11"
        ixz="1.10297243061389E-11"
        iyy="9.2667808797116E-08"
        iyz="-3.00610352019652E-13"
        izz="9.26694135970062E-08" />
    </inertial>
    <visual>
      <origin
        xyz="0 0 0"
        rpy="0 0 0" />
      <geometry>
        <mesh
          filename="package://toycar3/meshes/link_nut2.STL" />
      </geometry>
      <material
        name="">
        <color
          rgba="0.650980392156863 0.619607843137255 0.588235294117647 1" />
      </material>
    </visual>
    <collision>
      <origin
        xyz="0 0 0"
        rpy="0 0 0" />
      <geometry>
        <mesh
          filename="package://toycar3/meshes/link_nut2.STL" />
      </geometry>
    </collision>
  </link>
  <joint
    name="joint_nut2"
    type="fixed">
    <origin
      xyz="-0.00589904061900635 0 0"
      rpy="-0.613466578497017 0 3.14159265358979" />
    <parent
      link="link_bolt2" />
    <child
      link="link_nut2" />
    <axis
      xyz="0 0 0" />
  </joint>
  <link
    name="link_frame">
    <inertial>
      <origin
        xyz="0.0200034998571439 8.62712606050573E-06 2.38280805744696E-05"
        rpy="0 0 0" />
      <mass
        value="1.94277743950268" />
      <inertia
        ixx="0.0512753579869935"
        ixy="4.00940531919505E-06"
        ixz="8.25575550244818E-06"
        iyy="0.216552282390633"
        iyz="-6.41375396655244E-07"
        izz="0.165316182660774" />
    </inertial>
    <visual>
      <origin
        xyz="0 0 0"
        rpy="0 0 0" />
      <geometry>
        <mesh
          filename="package://toycar3/meshes/link_frame.STL" />
      </geometry>
      <material
        name="">
        <color
          rgba="0.898039215686275 0.917647058823529 0.929411764705882 1" />
      </material>
    </visual>
    <collision>
      <origin
        xyz="0 0 0"
        rpy="0 0 0" />
      <geometry>
        <mesh
          filename="package://toycar3/meshes/link_frame.STL" />
      </geometry>
    </collision>
  </link>
  <joint
    name="joint_frame"
    type="fixed">
    <origin
      xyz="0 0 0"
      rpy="1.5708 0 3.1416" />
    <parent
      link="base_link" />
    <child
      link="link_frame" />
    <axis
      xyz="0 0 0" />
  </joint>
  <link
    name="link_steering">
    <inertial>
      <origin
        xyz="0.0798858992688731 0.0685286325539076 -1.26113498080732E-05"
        rpy="0 0 0" />
      <mass
        value="0.0766121670004509" />
      <inertia
        ixx="0.000179279995832022"
        ixy="-0.00020347743176438"
        ixz="7.94408989016115E-08"
        iyy="0.000268784144586104"
        iyz="9.12125509950639E-08"
        izz="0.00042819555124782" />
    </inertial>
    <visual>
      <origin
        xyz="0 0 0"
        rpy="0 0 0" />
      <geometry>
        <mesh
          filename="package://toycar3/meshes/link_steering.STL" />
      </geometry>
      <material
        name="">
        <color
          rgba="0.898039215686275 0.917647058823529 0.929411764705882 1" />
      </material>
    </visual>
    <collision>
      <origin
        xyz="0 0 0"
        rpy="0 0 0" />
      <geometry>
        <mesh
          filename="package://toycar3/meshes/link_steering.STL" />
      </geometry>
    </collision>
  </link>
  <joint
    name="joint_steering"
    type="revolute">
    <origin
      xyz="0.236519639540846 0.0900677411099931 0"
      rpy="3.12445442356222 0.0154293517153925 -0.000132221748662137" />
    <parent
      link="link_frame" />
    <child
      link="link_steering" />
    <axis
      xyz="0.743144825477398 0.669130606358854 0" />
    <limit
      lower="0"
      upper="0"
      effort="0"
      velocity="0" />
  </joint>
  <link
    name="link_bolt3">
    <inertial>
      <origin
        xyz="-0.0323447106260158 -4.27337812580753E-07 1.1664461681965E-06"
        rpy="0 0 0" />
      <mass
        value="0.0117063658666882" />
      <inertia
        ixx="1.64769662837338E-07"
        ixy="1.12576542075194E-10"
        ixz="-4.85807718986584E-11"
        iyy="2.0169280827613E-06"
        iyz="8.36085447931125E-12"
        izz="2.01693320764978E-06" />
    </inertial>
    <visual>
      <origin
        xyz="0 0 0"
        rpy="0 0 0" />
      <geometry>
        <mesh
          filename="package://toycar3/meshes/link_bolt3.STL" />
      </geometry>
      <material
        name="">
        <color
          rgba="0.650980392156863 0.619607843137255 0.588235294117647 1" />
      </material>
    </visual>
    <collision>
      <origin
        xyz="0 0 0"
        rpy="0 0 0" />
      <geometry>
        <mesh
          filename="package://toycar3/meshes/link_bolt3.STL" />
      </geometry>
    </collision>
  </link>
  <joint
    name="joint_bolt3"
    type="fixed">
    <origin
      xyz="-0.22225 0 0.018952"
      rpy="1.1441 -1.5708 0" />
    <parent
      link="base_link" />
    <child
      link="link_bolt3" />
    <axis
      xyz="0 0 0" />
  </joint>
  <link
    name="link_nut3">
    <inertial>
      <origin
        xyz="-0.00377255990154702 3.61527088182934E-07 3.17493793200452E-08"
        rpy="0 0 0" />
      <mass
        value="0.00606203908565632" />
      <inertia
        ixx="1.46023443928158E-07"
        ixy="9.24186782188189E-13"
        ixz="-1.67742990410736E-11"
        iyy="9.26690998726587E-08"
        iyz="-7.03852552328847E-13"
        izz="9.26681225214615E-08" />
    </inertial>
    <visual>
      <origin
        xyz="0 0 0"
        rpy="0 0 0" />
      <geometry>
        <mesh
          filename="package://toycar3/meshes/link_nut3.STL" />
      </geometry>
      <material
        name="">
        <color
          rgba="0.650980392156863 0.619607843137255 0.588235294117647 1" />
      </material>
    </visual>
    <collision>
      <origin
        xyz="0 0 0"
        rpy="0 0 0" />
      <geometry>
        <mesh
          filename="package://toycar3/meshes/link_nut3.STL" />
      </geometry>
    </collision>
  </link>
  <joint
    name="joint_nut3"
    type="fixed">
    <origin
      xyz="-0.00612066025066367 0 0"
      rpy="2.79364393831595 0 0" />
    <parent
      link="link_bolt3" />
    <child
      link="link_nut3" />
    <axis
      xyz="0 0 0" />
  </joint>
  <link
    name="link_bolt4">
    <inertial>
      <origin
        xyz="-0.0323447106260165 -2.75026398474654E-07 1.21143500070309E-06"
        rpy="0 0 0" />
      <mass
        value="0.011706365866688" />
      <inertia
        ixx="1.64769662837338E-07"
        ixy="1.05458450353085E-10"
        ixz="-6.25466583547436E-11"
        iyy="2.01693028215916E-06"
        iyz="8.73717377763265E-12"
        izz="2.0169310082515E-06" />
    </inertial>
    <visual>
      <origin
        xyz="0 0 0"
        rpy="0 0 0" />
      <geometry>
        <mesh
          filename="package://toycar3/meshes/link_bolt4.STL" />
      </geometry>
      <material
        name="">
        <color
          rgba="0.650980392156863 0.619607843137255 0.588235294117647 1" />
      </material>
    </visual>
    <collision>
      <origin
        xyz="0 0 0"
        rpy="0 0 0" />
      <geometry>
        <mesh
          filename="package://toycar3/meshes/link_bolt4.STL" />
      </geometry>
    </collision>
  </link>
  <joint
    name="joint_bolt4"
    type="fixed">
    <origin
      xyz="-0.15875 -0.03175 0.018952"
      rpy="3.1074 -1.5708 0" />
    <parent
      link="base_link" />
    <child
      link="link_bolt4" />
    <axis
      xyz="0 0 0" />
  </joint>
  <link
    name="link_nut4">
    <inertial>
      <origin
        xyz="-0.00315102503488764 -2.57224762323371E-08 3.62005821923084E-07"
        rpy="0 0 0" />
      <mass
        value="0.00606203908565633" />
      <inertia
        ixx="1.46023443928158E-07"
        ixy="1.67873669553852E-11"
        ixz="6.44624102278418E-13"
        iyy="9.26681462396645E-08"
        iyz="7.19740839438244E-13"
        izz="9.26690761544558E-08" />
    </inertial>
    <visual>
      <origin
        xyz="0 0 0"
        rpy="0 0 0" />
      <geometry>
        <mesh
          filename="package://toycar3/meshes/link_nut4.STL" />
      </geometry>
      <material
        name="">
        <color
          rgba="0.650980392156863 0.619607843137255 0.588235294117647 1" />
      </material>
    </visual>
    <collision>
      <origin
        xyz="0 0 0"
        rpy="0 0 0" />
      <geometry>
        <mesh
          filename="package://toycar3/meshes/link_nut4.STL" />
      </geometry>
    </collision>
  </link>
  <joint
    name="joint_nut4"
    type="fixed">
    <origin
      xyz="-0.00612066025066366 0 0"
      rpy="2.09918771943033 0 0" />
    <parent
      link="link_bolt4" />
    <child
      link="link_nut4" />
    <axis
      xyz="0 0 0" />
  </joint>
  <link
    name="link_bolt5">
    <inertial>
      <origin
        xyz="-0.0133927044531765 -2.75026398439959E-07 1.21143500070309E-06"
        rpy="0 0 0" />
      <mass
        value="0.0117063658666882" />
      <inertia
        ixx="1.64769662837339E-07"
        ixy="1.05458450350791E-10"
        ixz="-6.25466583552681E-11"
        iyy="2.01693028215931E-06"
        iyz="8.73717377726208E-12"
        izz="2.01693100825165E-06" />
    </inertial>
    <visual>
      <origin
        xyz="0 0 0"
        rpy="0 0 0" />
      <geometry>
        <mesh
          filename="package://toycar3/meshes/link_bolt5.STL" />
      </geometry>
      <material
        name="">
        <color
          rgba="0.650980392156863 0.619607843137255 0.588235294117647 1" />
      </material>
    </visual>
    <collision>
      <origin
        xyz="0 0 0"
        rpy="0 0 0" />
      <geometry>
        <mesh
          filename="package://toycar3/meshes/link_bolt5.STL" />
      </geometry>
    </collision>
  </link>
  <joint
    name="joint_bolt5"
    type="fixed">
    <origin
      xyz="-0.15875 0.03175 0"
      rpy="2.8206 -1.5708 0" />
    <parent
      link="base_link" />
    <child
      link="link_bolt5" />
    <axis
      xyz="0 0 0" />
  </joint>
  <link
    name="link_nut5">
    <inertial>
      <origin
        xyz="0.013700736584565 -3.35902731379845E-07 1.37401659303787E-07"
        rpy="0 0 0" />
      <mass
        value="0.00606203908565631" />
      <inertia
        ixx="1.46023443928158E-07"
        ixy="6.86316774507046E-12"
        ixz="1.53338892009772E-11"
        iyy="9.26683215058305E-08"
        iyz="-8.06406378590512E-13"
        izz="9.26689008882897E-08" />
    </inertial>
    <visual>
      <origin
        xyz="0 0 0"
        rpy="0 0 0" />
      <geometry>
        <mesh
          filename="package://toycar3/meshes/link_nut5.STL" />
      </geometry>
      <material
        name="">
        <color
          rgba="0.650980392156863 0.619607843137255 0.588235294117647 1" />
      </material>
    </visual>
    <collision>
      <origin
        xyz="0 0 0"
        rpy="0 0 0" />
      <geometry>
        <mesh
          filename="package://toycar3/meshes/link_nut5.STL" />
      </geometry>
    </collision>
  </link>
  <joint
    name="joint_nut5"
    type="fixed">
    <origin
      xyz="-0.00381 0 0"
      rpy="1.62931718366426 0 0" />
    <parent
      link="link_bolt5" />
    <child
      link="link_nut5" />
    <axis
      xyz="0 0 0" />
  </joint>
  <link
    name="link_bolt6">
    <inertial>
      <origin
        xyz="-0.0323447106260162 -2.7502639843302E-07 1.21143500065451E-06"
        rpy="0 0 0" />
      <mass
        value="0.0117063658666881" />
      <inertia
        ixx="1.64769662837339E-07"
        ixy="1.0545845035433E-10"
        ixz="-6.25466583558873E-11"
        iyy="2.01693028215924E-06"
        iyz="8.73717377731501E-12"
        izz="2.01693100825158E-06" />
    </inertial>
    <visual>
      <origin
        xyz="0 0 0"
        rpy="0 0 0" />
      <geometry>
        <mesh
          filename="package://toycar3/meshes/link_bolt6.STL" />
      </geometry>
      <material
        name="">
        <color
          rgba="0.650980392156863 0.619607843137255 0.588235294117647 1" />
      </material>
    </visual>
    <collision>
      <origin
        xyz="0 0 0"
        rpy="0 0 0" />
      <geometry>
        <mesh
          filename="package://toycar3/meshes/link_bolt6.STL" />
      </geometry>
    </collision>
  </link>
  <joint
    name="joint_bolt6"
    type="fixed">
    <origin
      xyz="-0.06985 0 0.018952"
      rpy="2.2591 -1.5708 0" />
    <parent
      link="base_link" />
    <child
      link="link_bolt6" />
    <axis
      xyz="0 0 0" />
  </joint>
  <link
    name="link_nut6">
    <inertial>
      <origin
        xyz="-0.00288854605234062 2.60770587505454E-07 -2.52405549738821E-07"
        rpy="0 0 0" />
      <mass
        value="0.00606203908565633" />
      <inertia
        ixx="1.46023443928158E-07"
        ixy="-1.20707469916613E-11"
        ixz="-1.16845323650047E-11"
        iyy="9.2667845042295E-08"
        iyz="-3.8369145362274E-13"
        izz="9.26693773518254E-08" />
    </inertial>
    <visual>
      <origin
        xyz="0 0 0"
        rpy="0 0 0" />
      <geometry>
        <mesh
          filename="package://toycar3/meshes/link_nut6.STL" />
      </geometry>
      <material
        name="">
        <color
          rgba="0.650980392156863 0.619607843137255 0.588235294117647 1" />
      </material>
    </visual>
    <collision>
      <origin
        xyz="0 0 0"
        rpy="0 0 0" />
      <geometry>
        <mesh
          filename="package://toycar3/meshes/link_nut6.STL" />
      </geometry>
    </collision>
  </link>
  <joint
    name="joint_nut6"
    type="fixed">
    <origin
      xyz="-0.00612066025066367 0 0"
      rpy="2.47520886562172 0 0" />
    <parent
      link="link_bolt6" />
    <child
      link="link_nut6" />
    <axis
      xyz="0 0 0" />
  </joint>
  <link
    name="link_bolt8">
    <inertial>
      <origin
        xyz="-0.0323447106260155 -2.7502639843302E-07 1.21143500073084E-06"
        rpy="0 0 0" />
      <mass
        value="0.0117063658666884" />
      <inertia
        ixx="1.6476966283734E-07"
        ixy="1.05458450350619E-10"
        ixz="-6.25466583600203E-11"
        iyy="2.01693028215944E-06"
        iyz="8.73717377752677E-12"
        izz="2.01693100825178E-06" />
    </inertial>
    <visual>
      <origin
        xyz="0 0 0"
        rpy="0 0 0" />
      <geometry>
        <mesh
          filename="package://toycar3/meshes/link_bolt8.STL" />
      </geometry>
      <material
        name="">
        <color
          rgba="0.650980392156863 0.619607843137255 0.588235294117647 1" />
      </material>
    </visual>
    <collision>
      <origin
        xyz="0 0 0"
        rpy="0 0 0" />
      <geometry>
        <mesh
          filename="package://toycar3/meshes/link_bolt8.STL" />
      </geometry>
    </collision>
  </link>
  <joint
    name="joint_bolt8"
    type="fixed">
    <origin
      xyz="0.19685 -0.1016 0.018952"
      rpy="1.9928 -1.5708 0" />
    <parent
      link="base_link" />
    <child
      link="link_bolt8" />
    <axis
      xyz="0 0 0" />
  </joint>
  <link
    name="link_nut8">
    <inertial>
      <origin
        xyz="-0.00324614999975923 -3.60059630805099E-07 -4.54634267177401E-08"
        rpy="0 0 0" />
      <mass
        value="0.00606203908565634" />
      <inertia
        ixx="1.46023443928158E-07"
        ixy="-1.56089397556883E-12"
        ixz="1.67270690655684E-11"
        iyy="9.26691519116542E-08"
        iyz="-6.64710451015233E-13"
        izz="9.26680704824667E-08" />
    </inertial>
    <visual>
      <origin
        xyz="0 0 0"
        rpy="0 0 0" />
      <geometry>
        <mesh
          filename="package://toycar3/meshes/link_nut8.STL" />
      </geometry>
      <material
        name="">
        <color
          rgba="0.650980392156863 0.619607843137255 0.588235294117647 1" />
      </material>
    </visual>
    <collision>
      <origin
        xyz="0 0 0"
        rpy="0 0 0" />
      <geometry>
        <mesh
          filename="package://toycar3/meshes/link_nut8.STL" />
      </geometry>
    </collision>
  </link>
  <joint
    name="joint_nut8"
    type="fixed">
    <origin
      xyz="-0.00612066025066366 0 0"
      rpy="-2.60828212454272 0 0" />
    <parent
      link="link_bolt8" />
    <child
      link="link_nut8" />
    <axis
      xyz="0 0 0" />
  </joint>
  <link
    name="link_bolt9">
    <inertial>
      <origin
        xyz="-0.0323447106260163 -2.7502639843302E-07 1.21143500068921E-06"
        rpy="0 0 0" />
      <mass
        value="0.011706365866688" />
      <inertia
        ixx="1.64769662837338E-07"
        ixy="1.05458450352857E-10"
        ixz="-6.25466583514155E-11"
        iyy="2.01693028215921E-06"
        iyz="8.73717377705032E-12"
        izz="2.01693100825155E-06" />
    </inertial>
    <visual>
      <origin
        xyz="0 0 0"
        rpy="0 0 0" />
      <geometry>
        <mesh
          filename="package://toycar3/meshes/link_bolt9.STL" />
      </geometry>
      <material
        name="">
        <color
          rgba="0.650980392156863 0.619607843137255 0.588235294117647 1" />
      </material>
    </visual>
    <collision>
      <origin
        xyz="0 0 0"
        rpy="0 0 0" />
      <geometry>
        <mesh
          filename="package://toycar3/meshes/link_bolt9.STL" />
      </geometry>
    </collision>
  </link>
  <joint
    name="joint_bolt9"
    type="fixed">
    <origin
      xyz="0.19685 0.1016 0.018952"
      rpy="1.9086 -1.5708 0" />
    <parent
      link="base_link" />
    <child
      link="link_bolt9" />
    <axis
      xyz="0 0 0" />
  </joint>
  <link
    name="link_nut9">
    <inertial>
      <origin
        xyz="-0.00332793765952536 2.94519433743923E-07 2.12056983084352E-07"
        rpy="0 0 0" />
      <mass
        value="0.00606203908565636" />
      <inertia
        ixx="1.46023443928159E-07"
        ixy="9.36728681361322E-12"
        ixz="-1.39457938919592E-11"
        iyy="9.26694629780992E-08"
        iyz="9.31735895324879E-14"
        izz="9.26677594160221E-08" />
    </inertial>
    <visual>
      <origin
        xyz="0 0 0"
        rpy="0 0 0" />
      <geometry>
        <mesh
          filename="package://toycar3/meshes/link_nut9.STL" />
      </geometry>
      <material
        name="">
        <color
          rgba="0.650980392156863 0.619607843137255 0.588235294117647 1" />
      </material>
    </visual>
    <collision>
      <origin
        xyz="0 0 0"
        rpy="0 0 0" />
      <geometry>
        <mesh
          filename="package://toycar3/meshes/link_nut9.STL" />
      </geometry>
    </collision>
  </link>
  <joint
    name="joint_nut9"
    type="fixed">
    <origin
      xyz="-0.00612066025066365 0 0"
      rpy="1.4477105334779 0 0" />
    <parent
      link="link_bolt9" />
    <child
      link="link_nut9" />
    <axis
      xyz="0 0 0" />
  </joint>
  <link
    name="link_bolt10">
    <inertial>
      <origin
        xyz="-0.0323447106260133 -2.75026398932621E-07 1.21143500241006E-06"
        rpy="0 0 0" />
      <mass
        value="0.0117063658666894" />
      <inertia
        ixx="1.64769662837343E-07"
        ixy="1.05458450344105E-10"
        ixz="-6.25466583448814E-11"
        iyy="2.01693028216004E-06"
        iyz="8.73717377752677E-12"
        izz="2.01693100825238E-06" />
    </inertial>
    <visual>
      <origin
        xyz="0 0 0"
        rpy="0 0 0" />
      <geometry>
        <mesh
          filename="package://toycar3/meshes/link_bolt10.STL" />
      </geometry>
      <material
        name="">
        <color
          rgba="0.650980392156863 0.619607843137255 0.588235294117647 1" />
      </material>
    </visual>
    <collision>
      <origin
        xyz="0 0 0"
        rpy="0 0 0" />
      <geometry>
        <mesh
          filename="package://toycar3/meshes/link_bolt10.STL" />
      </geometry>
    </collision>
  </link>
  <joint
    name="joint_bolt10"
    type="fixed">
    <origin
      xyz="0.31115 0 0.0189520061728395"
      rpy="1.8552395753345 -1.5707963267949 0" />
    <parent
      link="base_link" />
    <child
      link="link_bolt10" />
    <axis
      xyz="0 0 0" />
  </joint>
  <link
    name="link_nut10">
    <inertial>
      <origin
        xyz="0.0133134082626505 -3.35902732656601E-07 1.37401660216252E-07"
        rpy="0 0 0" />
      <mass
        value="0.00606203908565635" />
      <inertia
        ixx="1.46023443928159E-07"
        ixy="6.86316774508423E-12"
        ixz="1.53338892010387E-11"
        iyy="9.26683215058309E-08"
        iyz="-8.06406378573969E-13"
        izz="9.26689008882903E-08" />
    </inertial>
    <visual>
      <origin
        xyz="0 0 0"
        rpy="0 0 0" />
      <geometry>
        <mesh
          filename="package://toycar3/meshes/link_nut10.STL" />
      </geometry>
      <material
        name="">
        <color
          rgba="0.650980392156863 0.619607843137255 0.588235294117647 1" />
      </material>
    </visual>
    <collision>
      <origin
        xyz="0 0 0"
        rpy="0 0 0" />
      <geometry>
        <mesh
          filename="package://toycar3/meshes/link_nut10.STL" />
      </geometry>
    </collision>
  </link>
  <joint
    name="joint_nut10"
    type="fixed">
    <origin
      xyz="-0.0227620061728395 0 0"
      rpy="2.36818746449955 0 0" />
    <parent
      link="link_bolt10" />
    <child
      link="link_nut10" />
    <axis
      xyz="0 0 0" />
  </joint>

  <transmission name="trans1">
  	<type>transmission_interface/SimpleTransmission</type>
  	<joint name="joint_rear_axle">
  		<hardwareInterface>hardware_interface/VelocityJointInterface</hardwareInterface>
  	</joint>
  	<actuator name="Engine1">
  		<mechanicalReduction>2</mechanicalReduction>
  	</actuator>
  </transmission>

  <transmission name="trans2">
  	<type>transmission_interface/SimpleTransmission</type>
  	<joint name="joint_f_r_female">
  		<hardwareInterface>hardware_interface/EffortJointInterface</hardwareInterface>
  	</joint>
  	<actuator name="motor1">
  		<mechanicalReduction>10</mechanicalReduction>
  	</actuator>
  </transmission>

  <transmission name="trans3">
  	<type>transmission_interface/SimpleTransmission</type>
  	<joint name="joint_f_l_female">
  		<hardwareInterface>hardware_interface/EffortJointInterface</hardwareInterface>
  	</joint>
  	<actuator name="motor2">
  		<mechanicalReduction>10</mechanicalReduction>
  	</actuator>
  </transmission>
</robot>
